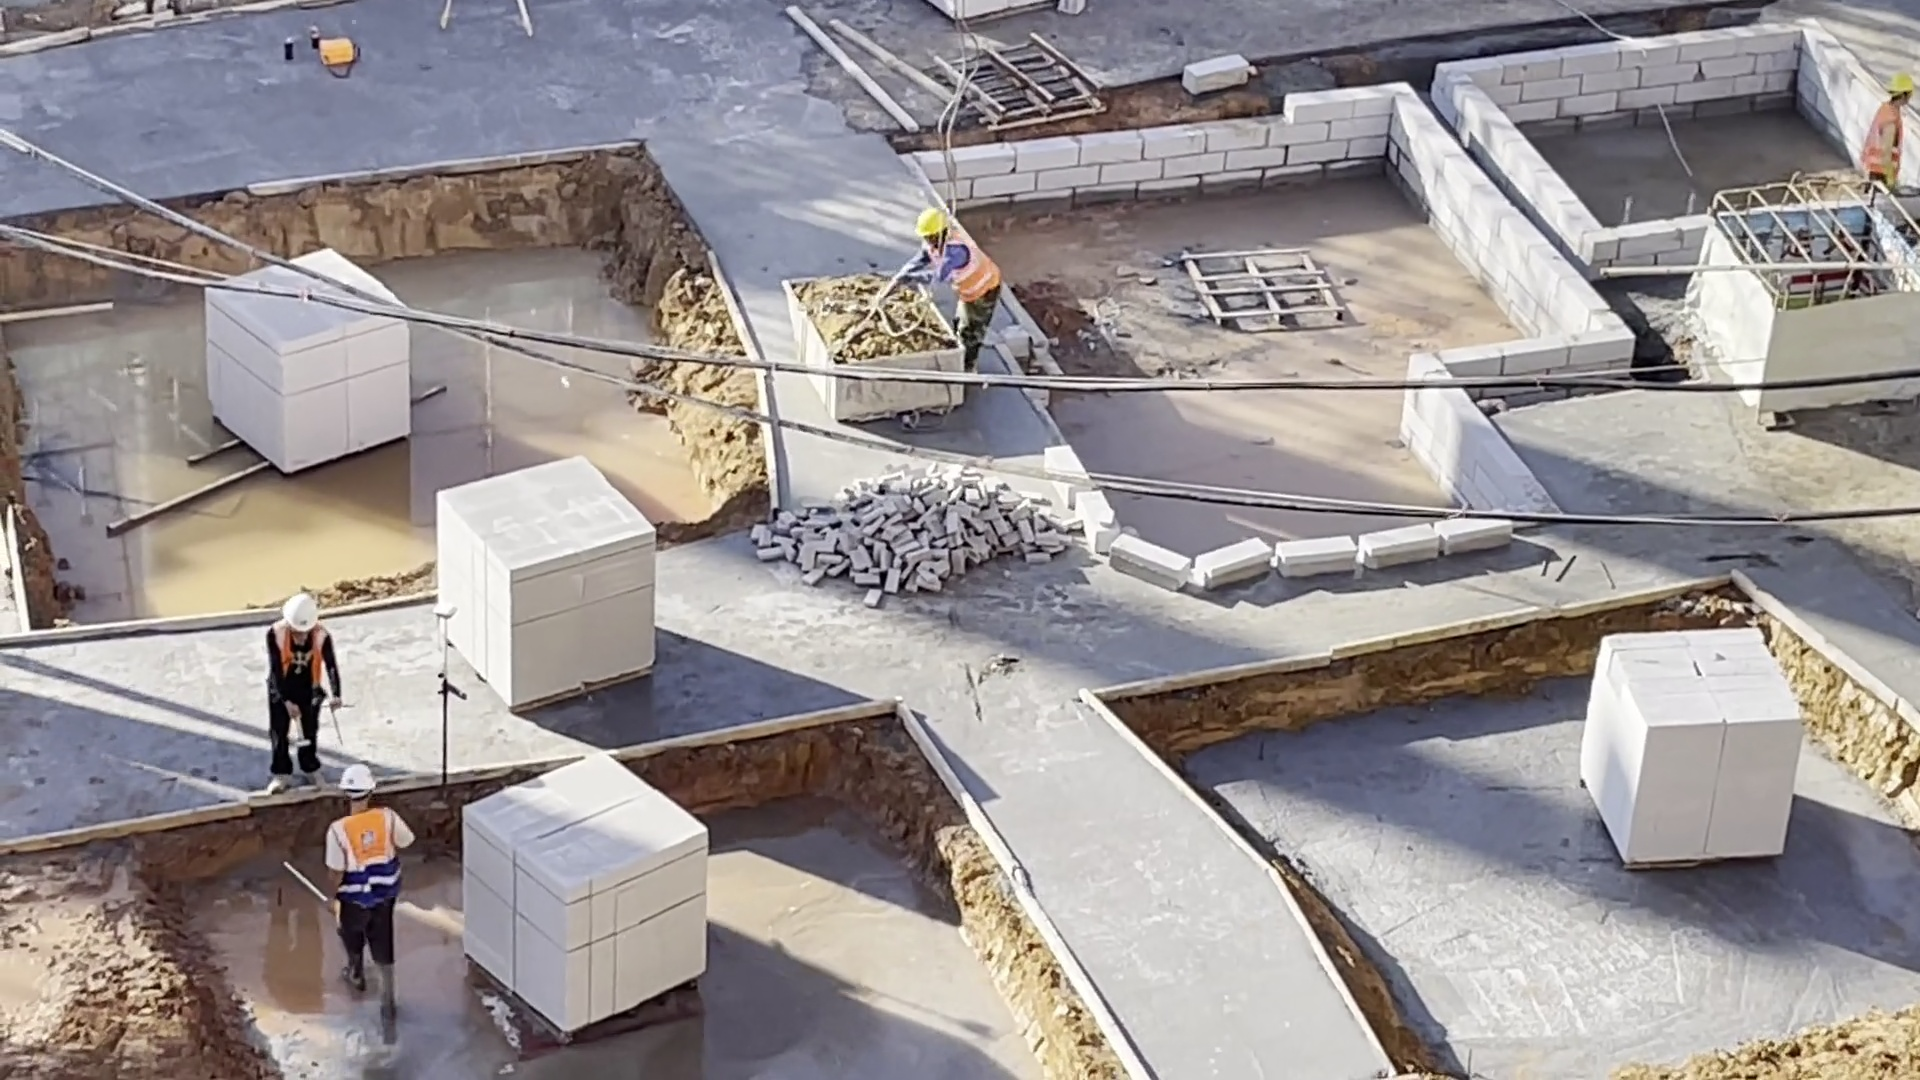brick: (461, 753, 713, 1031), (1571, 619, 1806, 872), (435, 450, 661, 706), (205, 315, 410, 475)
helmet: (907, 204, 952, 243), (277, 595, 324, 630), (337, 762, 377, 794), (1884, 73, 1915, 97)
hopper: (777, 269, 962, 364)
person: (322, 762, 419, 1015), (883, 201, 1009, 384), (259, 588, 347, 797), (1853, 72, 1912, 190)
vest: (327, 805, 407, 905), (932, 233, 1001, 301), (270, 626, 328, 685), (1862, 102, 1904, 175)
